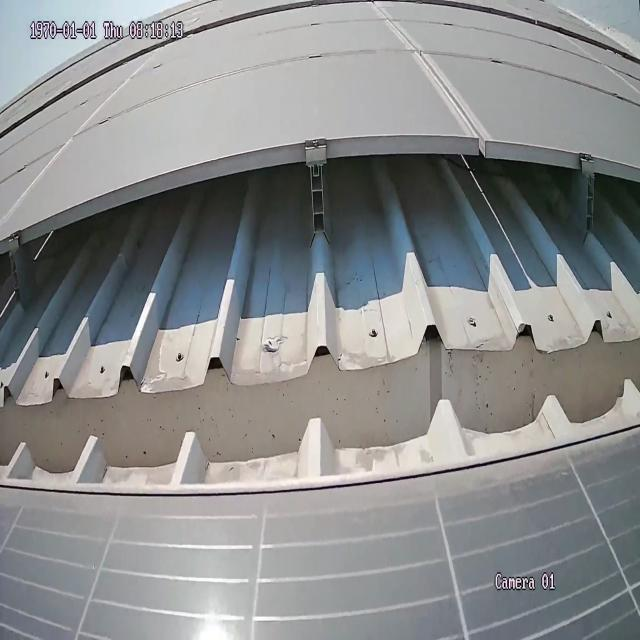interior panel: (0, 61, 148, 220), (367, 6, 494, 138)
outher panel: (0, 142, 640, 499)
